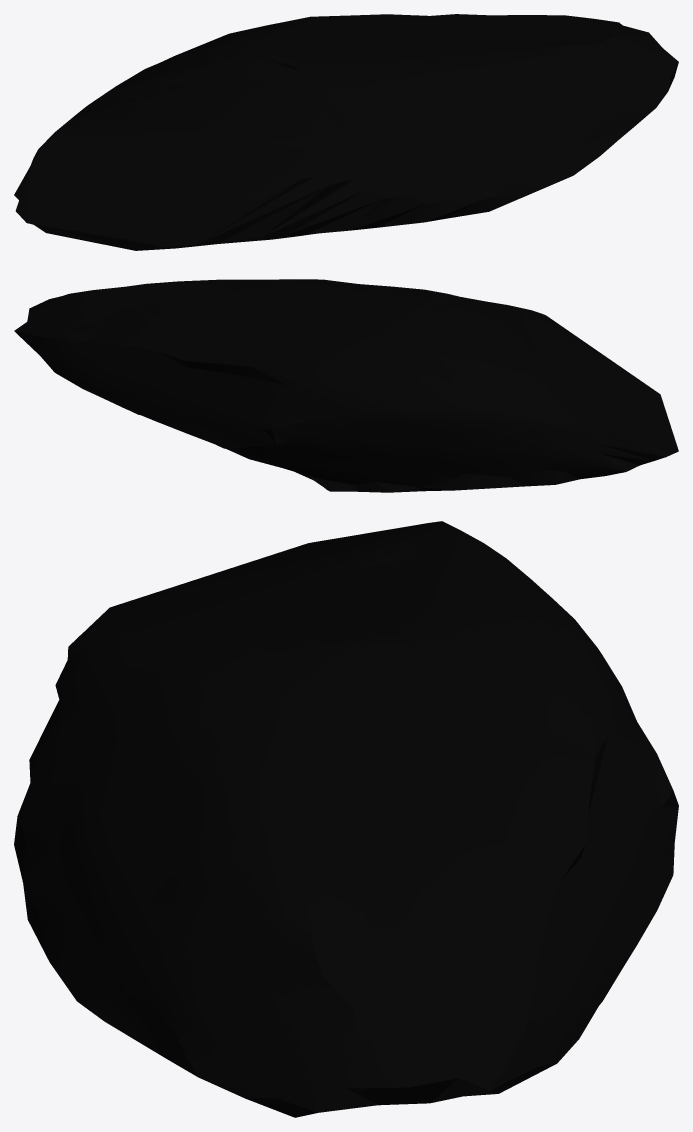
File: rock_slab_01.glb
3 renders of one model, top to bottom at view 1: azimuth 30°, elevation 25°; view 2: azimuth 150°, elevation 25°; view 3: azimuth 270°, elevation 25°, orthographic. The views are drawn at different scales.
Visible parts, largest first — view 1: rock_slab_01; view 2: rock_slab_01; view 3: rock_slab_01.
Part boxes in pixels (x1,y1,x2,y2): rock_slab_01: [14, 14, 678, 250]; rock_slab_01: [14, 279, 678, 492]; rock_slab_01: [14, 521, 678, 1117].
Bounding box in the file's own units: 2.83 × 0.6286 × 1.4.
1 material, 1 textured.
